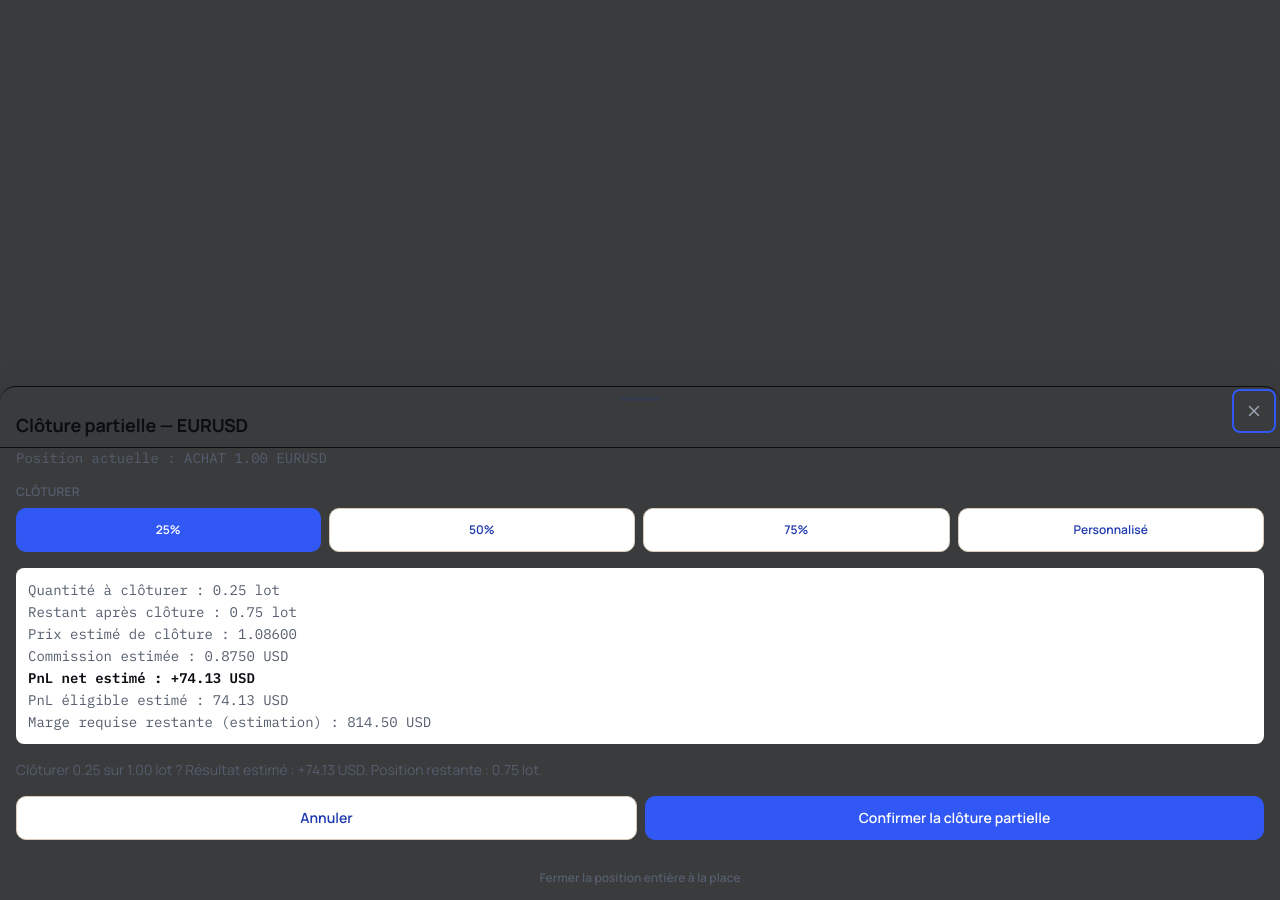
Scenario: PartialCloseSheet › switching to 50%/75% updates the previewed quantity
What coordinates should you click on to do the following:
click the button "50%"
I would click on:
 (482, 530)
Its box is [328,508,635,552].
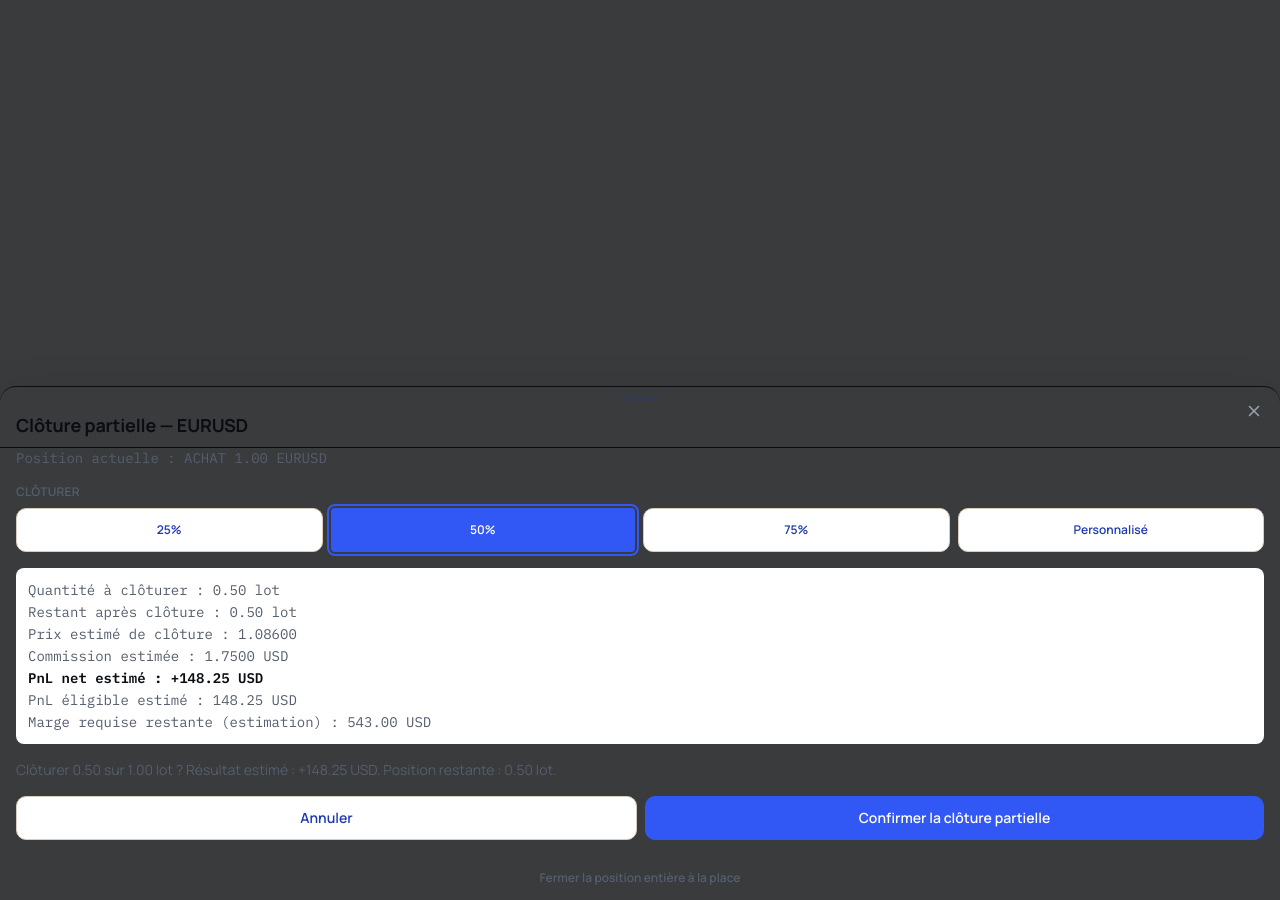
Check: the text "Clôturer 0.50 sur 1.00 lot" is shown, box [16,760,557,779]
What coordinates should you click on to do the following:
click the button "75%"
I would click on:
 (796, 530)
Its box is [643,508,950,552].
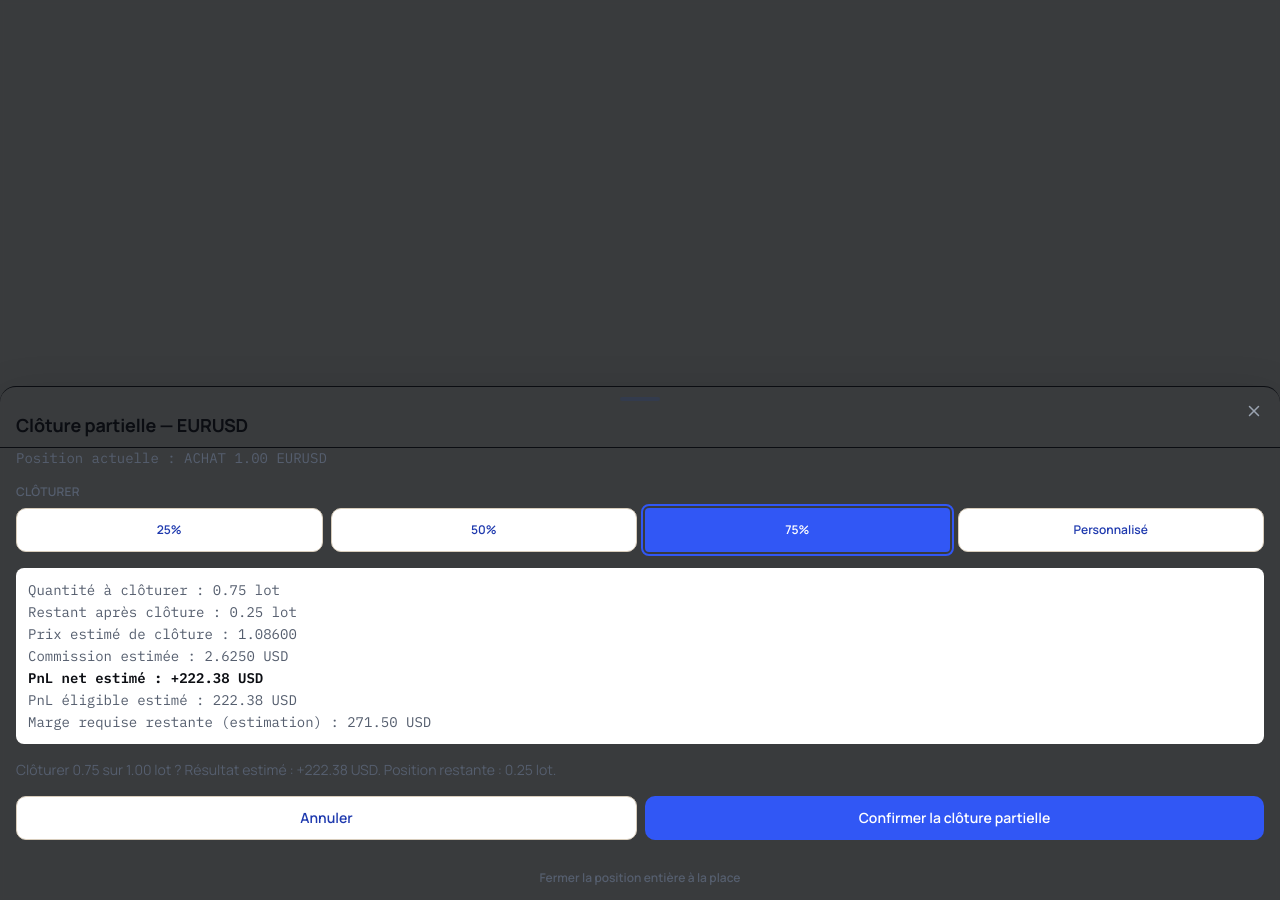
Check: the text "Clôturer 0.75 sur 1.00 lot" is shown, box [16,760,556,779]
